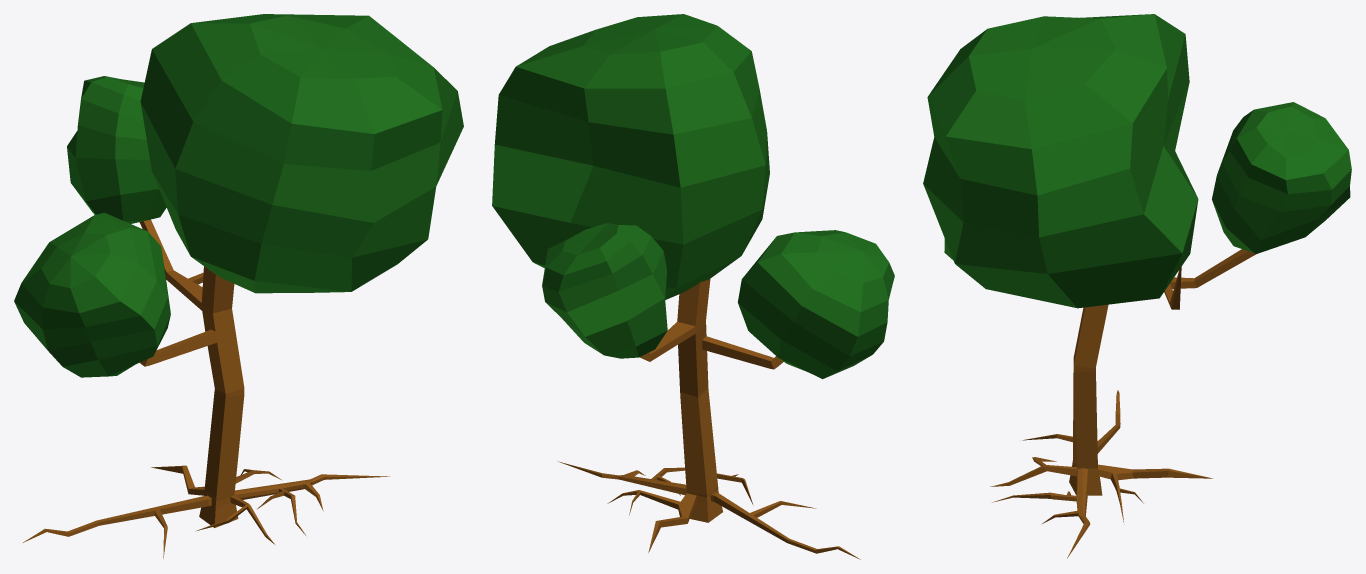
The model's file is tree_4.fbx.
3 views of the same model, side by side, from view 1: azimuth 30°, elevation 25°; view 2: azimuth 150°, elevation 25°; view 3: azimuth 270°, elevation 25° (orthographic). The views are drawn at different scales.
Parts seen in each view (by area): view 1: leaves, trunk; view 2: leaves, trunk; view 3: leaves, trunk.
Boxes of the visible parts, x1,y1,x2,y2 form: leaves: (14, 14, 463, 377); trunk: (23, 219, 389, 558); leaves: (492, 14, 894, 379); trunk: (557, 279, 860, 559); leaves: (923, 14, 1351, 308); trunk: (990, 249, 1255, 558).
Bounding box in the file's own units: 2285 × 2579 × 2052.
